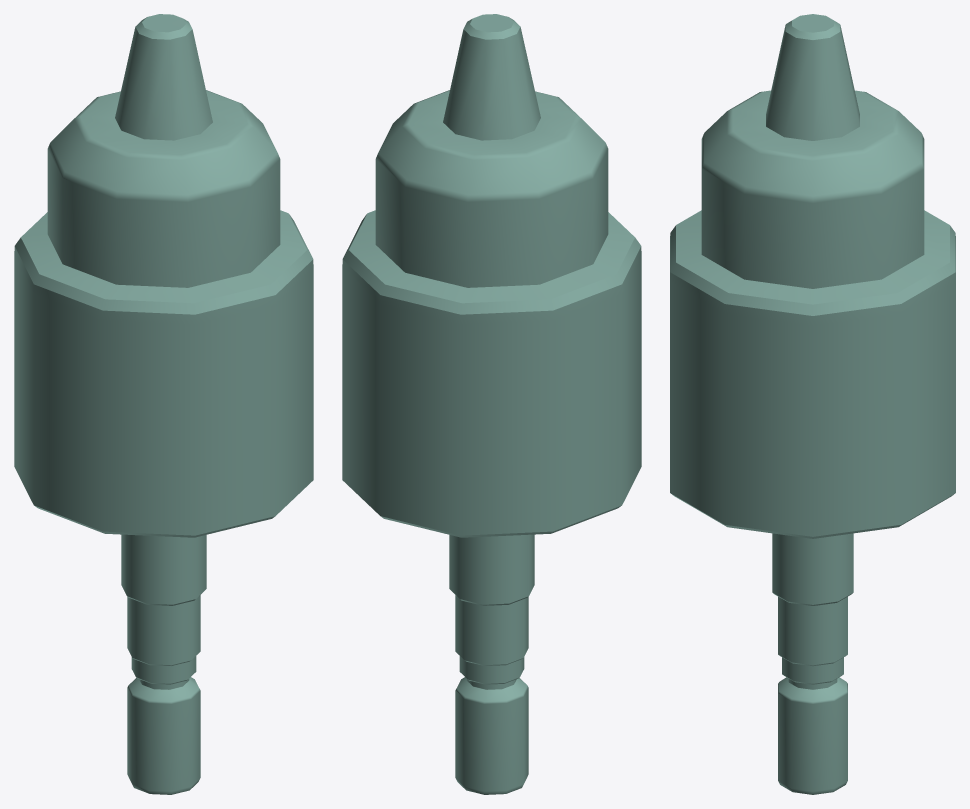
The model's file is Tools_CannulatedDrill_DrillBit01.fbx.
The picture shows the model from 3 angles, left to right: view 1: azimuth 30°, elevation 25°; view 2: azimuth 150°, elevation 25°; view 3: azimuth 270°, elevation 25°; orthographic projection.
Parts seen in each view (by area): view 1: Tools_CannulatedDrill_01:Tools_CannulatedDrill_DrillBit01_01; view 2: Tools_CannulatedDrill_01:Tools_CannulatedDrill_DrillBit01_01; view 3: Tools_CannulatedDrill_01:Tools_CannulatedDrill_DrillBit01_01.
Part boxes in pixels (x1=…): Tools_CannulatedDrill_01:Tools_CannulatedDrill_DrillBit01_01: x1=14, y1=14, x2=313, y2=794; Tools_CannulatedDrill_01:Tools_CannulatedDrill_DrillBit01_01: x1=342, y1=14, x2=641, y2=794; Tools_CannulatedDrill_01:Tools_CannulatedDrill_DrillBit01_01: x1=670, y1=14, x2=955, y2=794.
Size of the model in its own units: 1.66 by 4.64 by 1.58.
